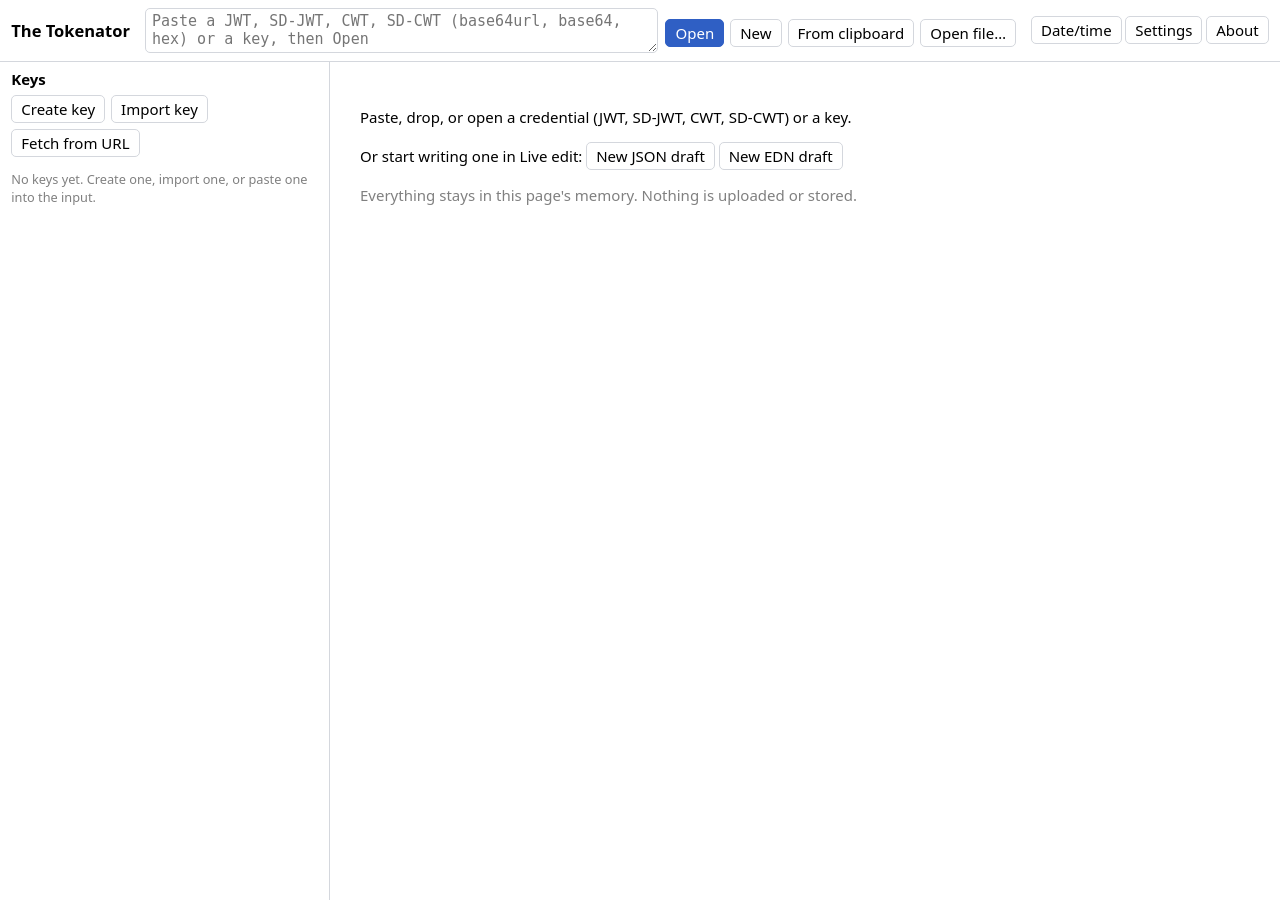
Scenario: starting a draft › the empty state offers New JSON draft and New EDN draft
The width and height of the screenshot is (1280, 900).
What coordinates should you click on to do the following:
click the button "New EDN draft"
I would click on:
 (781, 156)
Its box is [719,142,843,170].
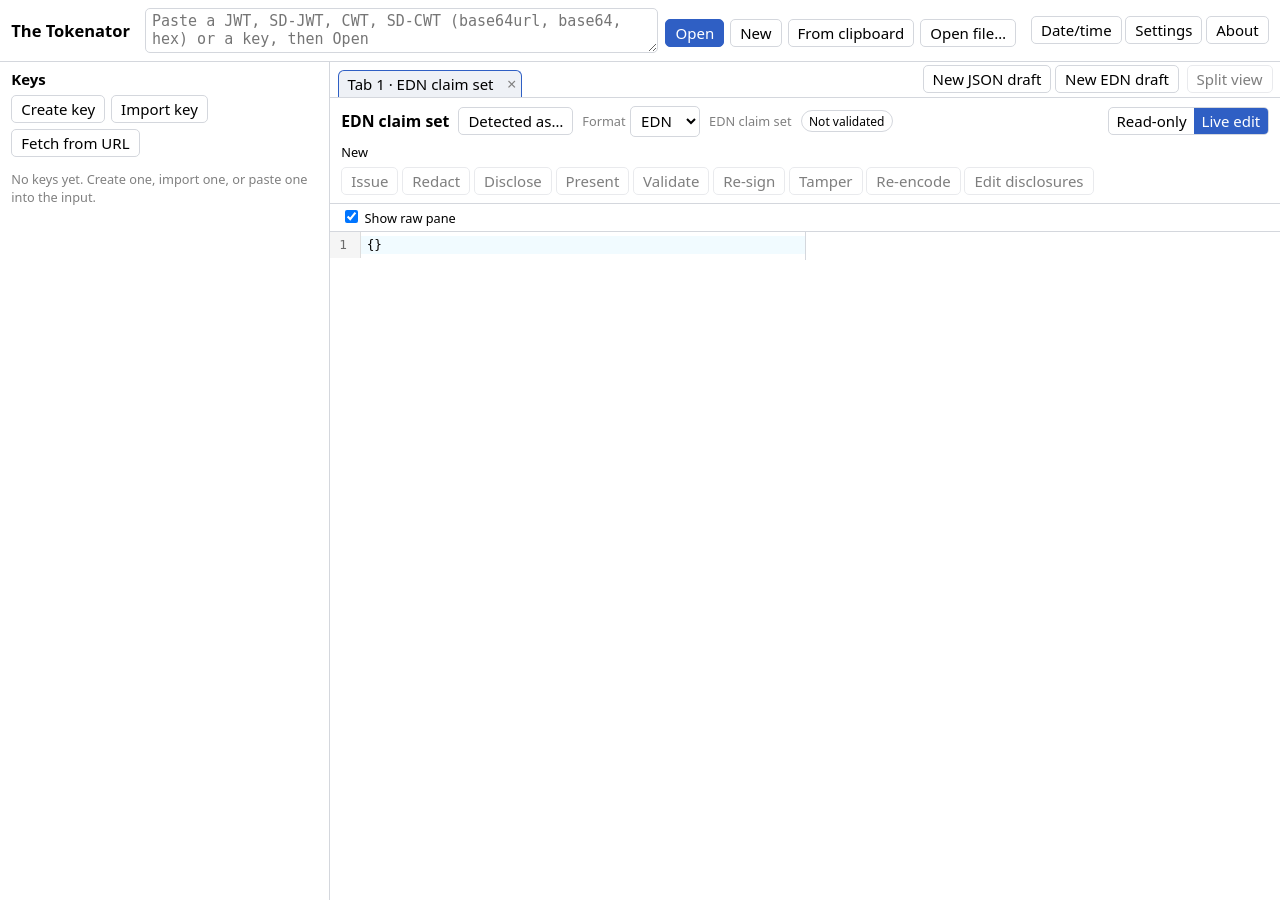
Expected: the button "New JSON draft" is shown, [923,65,1051,93]
Now the element with test id "live-editor" is shown, box [330,232,805,258]
Now the dropdown labelled "Format" shows "EDN", box [630,106,700,137]
